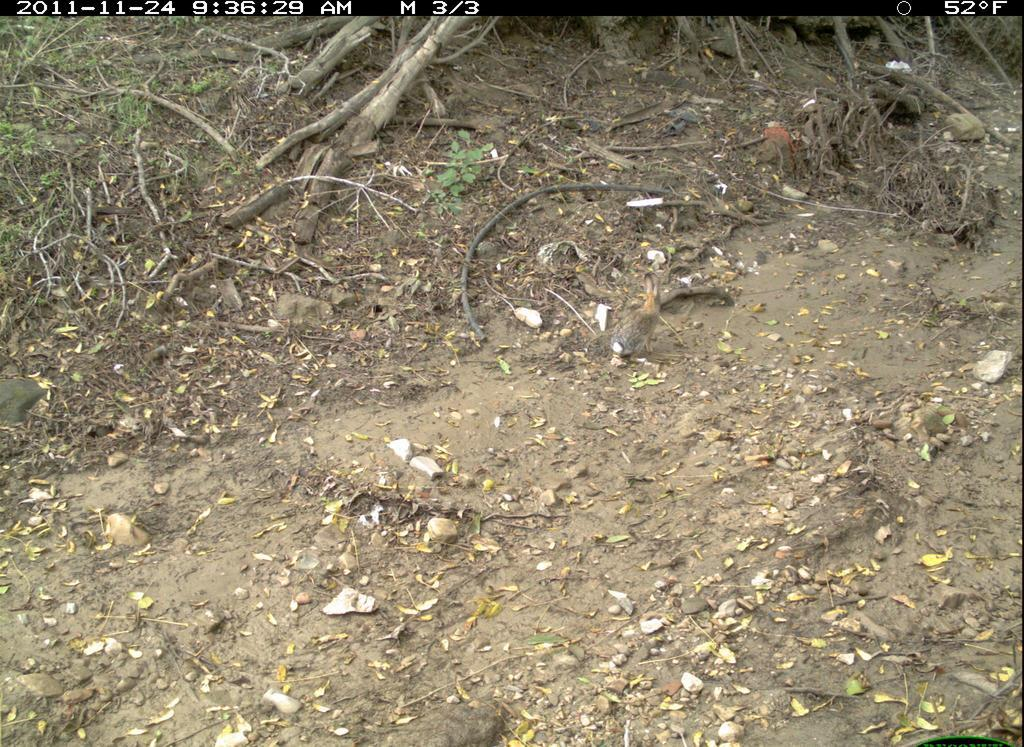rabbit: (606, 270, 667, 366)
